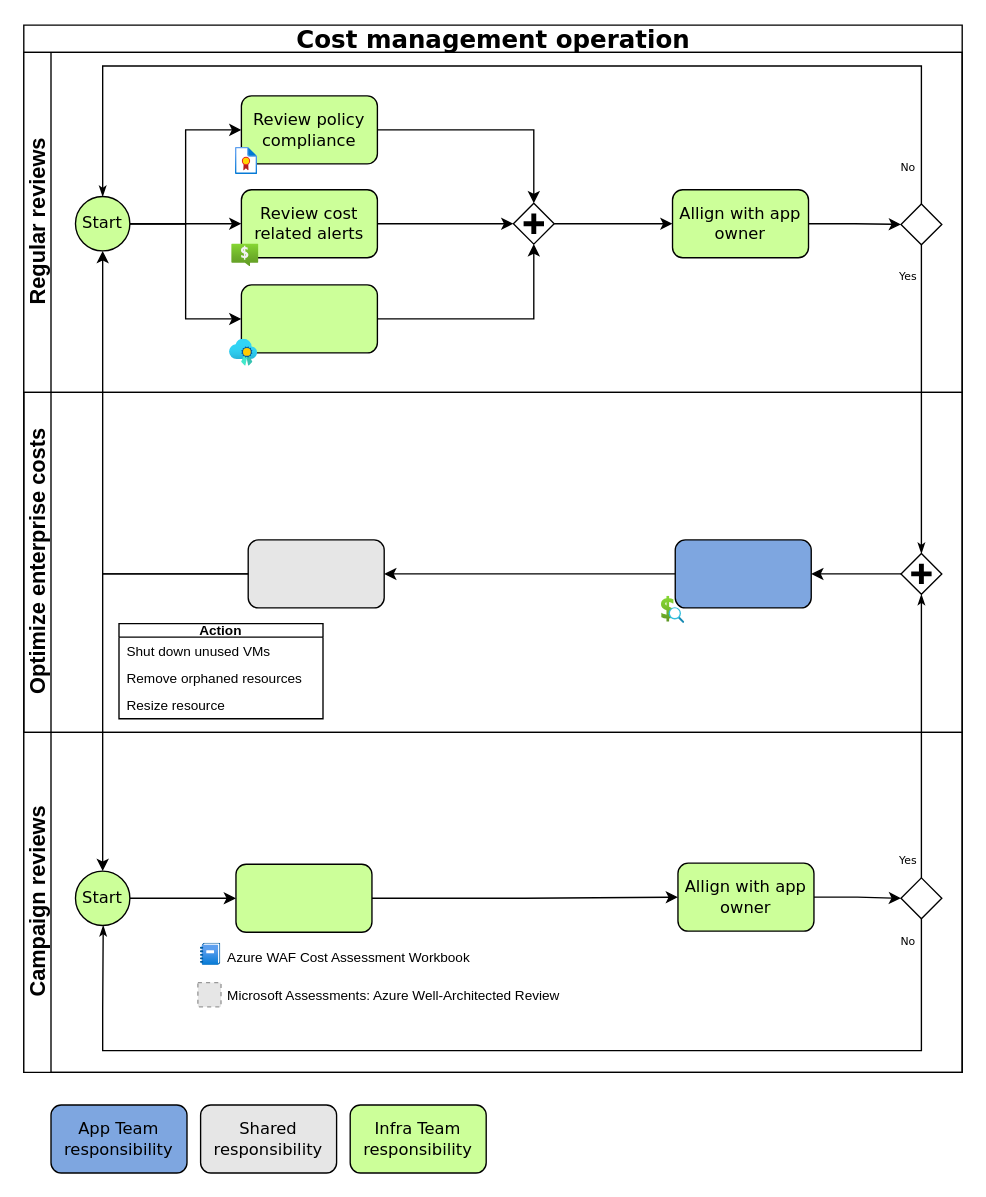
Some shapes in this 986 by 1197 pixel diagram are drawn without their labels. Grey dashed boxes stand in for pictures. Here are the shapes that lost their labels. From the top down, the centre of each, then its label:
At [308,318]: "Review recomendations".
At [315,573]: "Optimize cost across environments".
At [742,573]: "Cost analysis".
At [303,897]: "Review discipline best practices".
